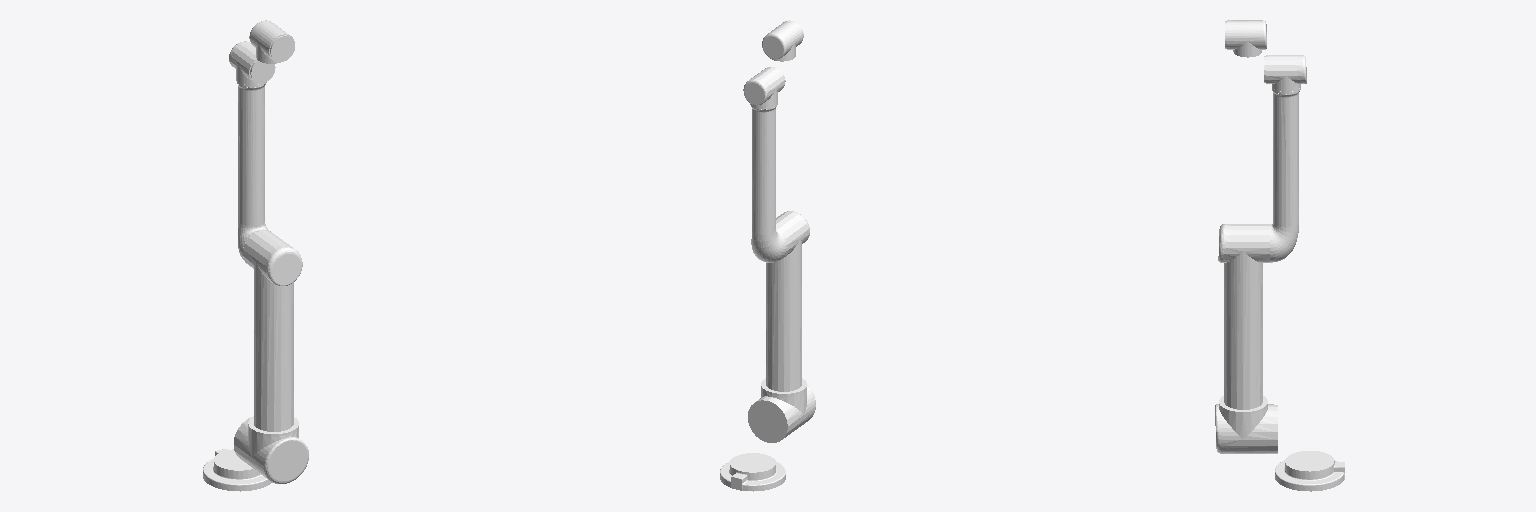
URDF robot description (aubo_iS10_F1):
<?xml version="1.0"?>
<robot  name="aubo_iS10_F1">
  <dh_type type="modified"/>
  <safety_para singularity_consistent="0.02 0.01 10 0.2 0.045 10"/>	
  <link name="base_link">
    <inertial>
      <origin xyz="0.00038 0.00471 0.01913" rpy="0 0 0" />
      <mass value="2.02203" />
      <inertia ixx="0.00676" ixy="-0.00004" ixz="0.00001" iyy="0.00628" iyz="-0.00007" izz="0.01215" />
    </inertial>
    <visual>
      <origin xyz="0 0 0" rpy="0 0 0" />
      <geometry>
        <mesh filename="package://aubo_description/meshes/aubo_iS10_F1/collision/link0.STL" />
      </geometry>
      <material name="">
        <color rgba="1 1 1 1" />
      </material>
    </visual>
    <collision>
      <origin xyz="0 0 0" rpy="0 0 0" />
      <geometry>
        <mesh filename="package://aubo_description/meshes/aubo_iS10_F1/collision/link0.STL" />
      </geometry>
    </collision>
  </link>

  <link name="shoulder_Link">
    <inertial>
      <origin xyz="0.000013 0.00391 -0.027601" rpy="0 0 0" />
      <mass value="9.55599784" />
      <inertia ixx="0.03704" ixy="0.00001" ixz="0.00004" iyy="0.03629" iyz="-0.00112" izz="0.02738" />
    </inertial>
    <visual>
      <origin xyz="0 0 0" rpy="0 0 0" />
      <geometry>
        <mesh filename="package://aubo_description/meshes/aubo_iS10_F1/collision/link1.STL" />
      </geometry>
      <material name="">
        <color rgba="1 1 1 1" />
      </material>
    </visual>
    <collision>
      <origin xyz="0 0 0" rpy="0 0 0" />
      <geometry>
        <mesh filename="package://aubo_description/meshes/aubo_iS10_F1/collision/link1.STL" />
      </geometry>
    </collision>
  </link>

  <joint name="shoulder_joint" type="revolute">
    <origin xyz="0 0 0.157" rpy="0 0 3.1415926535897932384626433832795" />
    <parent link="base_link" />
    <child link="shoulder_Link" />
    <axis xyz="0 0 1" />
    <limit lower="-6.283185307179586476925286766559" upper="6.283185307179586476925286766559" effort="267" start_stop="433" velocity="3.106686" />
    <property inertia="4.9" damping="0" stiffness="0" offset="0" motor_constant="9.54" ratio="101"/>
  </joint>

  <link name="upperArm_Link">
    <inertial>
      <origin xyz="0.21436 0.00001 -0.01184" rpy="0 0 0" />
      <mass value="16.7475" />
      <inertia ixx="0.0561" ixy="0.00005" ixz="-0.02225" iyy="1.25634" iyz="-0.00003" izz="1.24286" />
    </inertial>
    <visual>
      <origin xyz="0 0 0" rpy="0 0 0" />
      <geometry>
        <mesh filename="package://aubo_description/meshes/aubo_iS10_F1/collision/link2.STL" />
      </geometry>
      <material name="">
        <color rgba="1 1 1 1" />
      </material>
    </visual>
    <collision>
      <origin xyz="0 0 0" rpy="0 0 0" />
      <geometry>
        <mesh filename="package://aubo_description/meshes/aubo_iS10_F1/collision/link2.STL" />
      </geometry>
    </collision>
  </link>

  <joint name="upperArm_joint" type="revolute">
    <origin xyz="0 0.185 0" rpy="-1.5707963267948966192313216916398 -1.5707963267948966192313216916398 0" />
    <parent link="shoulder_Link" />
    <child link="upperArm_Link" />
    <axis xyz="0 0 1" />
    <limit lower="-6.283185307179586476925286766559" upper="6.283185307179586476925286766559" effort="267" start_stop="433" velocity="3.106686" />
    <property inertia="4.9" damping="0" stiffness="0" offset="0" motor_constant="9.54" ratio="101"/>
  </joint>

  <link name="foreArm_Link">
    <inertial>
      <origin xyz="0.42241 0.0 0.10169" rpy="0 0 0" />
      <mass  value="3.93199" />
      <inertia ixx="0.00586" ixy="0.00001" ixz="0.00193" iyy="0.17192" iyz="0" izz="0.1708" />
    </inertial>
    <visual>
      <origin xyz="0 0 0" rpy="0 0 0" />
      <geometry>
        <mesh filename="package://aubo_description/meshes/aubo_iS10_F1/collision/link3.STL" />
      </geometry>
      <material name="">
        <color rgba="1 1 1 1" />
      </material>
    </visual>
    <collision>
      <origin xyz="0 0 0" rpy="0 0 0" />
      <geometry>
        <mesh filename="package://aubo_description/meshes/aubo_iS10_F1/collision/link3.STL" />
      </geometry>
    </collision>
  </link>

  <joint name="foreArm_joint" type="revolute">
    <origin xyz="0.613 0 0" rpy="-3.1415926535897932384626433832795 0 0" />
    <parent link="upperArm_Link" />
    <child link="foreArm_Link" />
    <axis xyz="0 0 1" />
    <limit lower="-6.283185307179586476925286766559" upper="6.283185307179586476925286766559" effort="133" start_stop="207" velocity="4.146902" />
    <property inertia="0.77" damping="0" stiffness="0" offset="0" motor_constant="8.72" ratio="101"/>
  </joint>

  <link name="wrist1_Link">
    <inertial>
      <origin xyz="0.00 0.01586 -0.00161" rpy="0 0 0" />
      <mass value="2.19734" />
      <inertia ixx="0.00317" ixy="0" ixz="0" iyy="0.00202" iyz="-0.00007" izz="0.00314" />
    </inertial>
    <visual>
      <origin xyz="0 0 0" rpy="0 0 0" />
      <geometry>
        <mesh filename="package://aubo_description/meshes/aubo_iS10_F1/collision/link4.STL" />
      </geometry>
      <material name="">
        <color rgba="1 1 1 1" />
      </material>
    </visual>
    <collision>
      <origin xyz="0 0 0" rpy="0 0 0" />
      <geometry>
        <mesh filename="package://aubo_description/meshes/aubo_iS10_F1/collision/link4.STL" />
      </geometry>
    </collision>
  </link>

  <joint name="wrist1_joint" type="revolute">
    <origin xyz="0.572 0 0" rpy="3.1415926535897932384626433832795 0 1.5707963267948966192313216916398" />
    <parent link="foreArm_Link" />
    <child link="wrist1_Link" />
    <axis xyz="0 0 1" />
    <limit lower="-6.283185307179586476925286766559" upper="6.283185307179586476925286766559" effort="33" start_stop="56" velocity="5.17141057" />
    <property inertia="0.25" damping="0" stiffness="0" offset="0" motor_constant="8.81" ratio="81"/>
  </joint>

  <link name="wrist2_Link">
    <inertial>
      <origin xyz="0.000 -0.01586 -0.00161" rpy="0 0 0" />
      <mass value="2.19734" />
      <inertia ixx="0.00317" ixy="0" ixz="0" iyy="0.00202" iyz="0.00007" izz="0.00314" />
    </inertial>
    <visual>
      <origin xyz="0 0 0" rpy="0 0 0" />
      <geometry>
        <mesh filename="package://aubo_description/meshes/aubo_iS10_F1/collision/link5.STL" />
      </geometry>
      <material name="">
        <color rgba="1 1 1 1" />
      </material>
    </visual>
    <collision>
      <origin xyz="0 0 0" rpy="0 0 0" />
      <geometry>
        <mesh filename="package://aubo_description/meshes/aubo_iS10_F1/collision/link5.STL" />
      </geometry>
    </collision>
  </link>

  <joint name="wrist2_joint" type="revolute">
    <origin xyz="0 0.115 0" rpy="-1.5707963267948966192313216916398 0 0" />
    <parent link="wrist1_Link" />
    <child link="wrist2_Link" />
    <axis xyz="0 0 1" />
    <limit lower="-6.283185307179586476925286766559" upper="6.283185307179586476925286766559" effort="33" start_stop="56" velocity="5.17141057" />
    <property inertia="0.25" damping="0" stiffness="0" offset="0" motor_constant="8.81" ratio="81"/>
  </joint>

  <link name="wrist3_Link">
    <inertial>
      <origin xyz="-0.00013271839 0.00028755902 -0.03361835823" rpy="0 0 0" />
      <mass value="0.67640558" />
      <inertia ixx="0.00052470460450" ixy="0.00000301769913" ixz="-0.00000154253161" iyy="0.00051944492978" iyz="0.00000375869557" izz="0.00064296568793" />
    </inertial>
    <visual>
      <origin xyz="0 0 0" rpy="0 0 0" />
      <geometry>
        <mesh filename="package://aubo_description/meshes/aubo_iS10_F1/collision/link6.STL" />
      </geometry>
      <material name="">
        <color rgba="1 1 1 1" />
      </material>
    </visual>
    <collision>
      <origin xyz="0 0 0" rpy="0 0 0" />
      <geometry>
        <mesh filename="package://aubo_description/meshes/aubo_iS10_F1/collision/link6.STL" />
      </geometry>
    </collision>
  </link>

  <joint name="wrist3_joint" type="revolute">
    <origin xyz="0 -0.1295 0" rpy="1.5707963267948966192313216916398 0 1.7907E-15" />
    <parent link="wrist2_Link" />
    <child link="wrist3_Link" />
    <axis xyz="0 0 1" />
    <limit lower="-6.283185307179586476925286766559" upper="6.283185307179586476925286766559" effort="33" start_stop="56" velocity="5.17141057" />
    <property inertia="0.25" damping="0" stiffness="0" offset="0" motor_constant="8.81" ratio="81"/>
  </joint>

  <link name="world" />

  <joint name="world_joint" type="fixed">
    <parent link="world" />
    <child link = "base_link" />
    <origin xyz="0.0 0.0 0.0" rpy="0.0 0.0 0.0" />
  </joint>
</robot>

--- What the picture shows (computed from the rendered views, not written in the file) ---
Views: 3 orthographic renders of the robot side by side, from view 1: azimuth 30°, elevation 25°; view 2: azimuth 150°, elevation 25°; view 3: azimuth 270°, elevation 25°.
Model aubo_iS10_F1 with 8 links and 7 joints (6 revolute, 1 fixed), rooted at world, posed every joint at zero.
Visible links, largest first — view 1: upperArm_Link, foreArm_Link, base_link, wrist2_Link; view 2: upperArm_Link, foreArm_Link, base_link, wrist2_Link; view 3: upperArm_Link, foreArm_Link, base_link, wrist2_Link.
Boxes of the visible links, x1=… form: upperArm_Link: x1=234, y1=230, x2=308, y2=483; foreArm_Link: x1=229, y1=41, x2=275, y2=263; base_link: x1=203, y1=449, x2=272, y2=491; wrist2_Link: x1=249, y1=20, x2=294, y2=63; upperArm_Link: x1=748, y1=211, x2=815, y2=442; foreArm_Link: x1=743, y1=67, x2=787, y2=262; base_link: x1=720, y1=453, x2=785, y2=491; wrist2_Link: x1=762, y1=20, x2=803, y2=61; upperArm_Link: x1=1215, y1=224, x2=1277, y2=453; foreArm_Link: x1=1264, y1=55, x2=1306, y2=262; base_link: x1=1275, y1=451, x2=1344, y2=491; wrist2_Link: x1=1225, y1=20, x2=1266, y2=57.
Size in the robot's own frame: 0.2099 by 0.3879 by 1.5 metres.
Meshes: 7 distinct files referenced, 4 mesh visuals loaded (4 binary STL); not drawn: 3 (reference not matched to a file when rendering).
